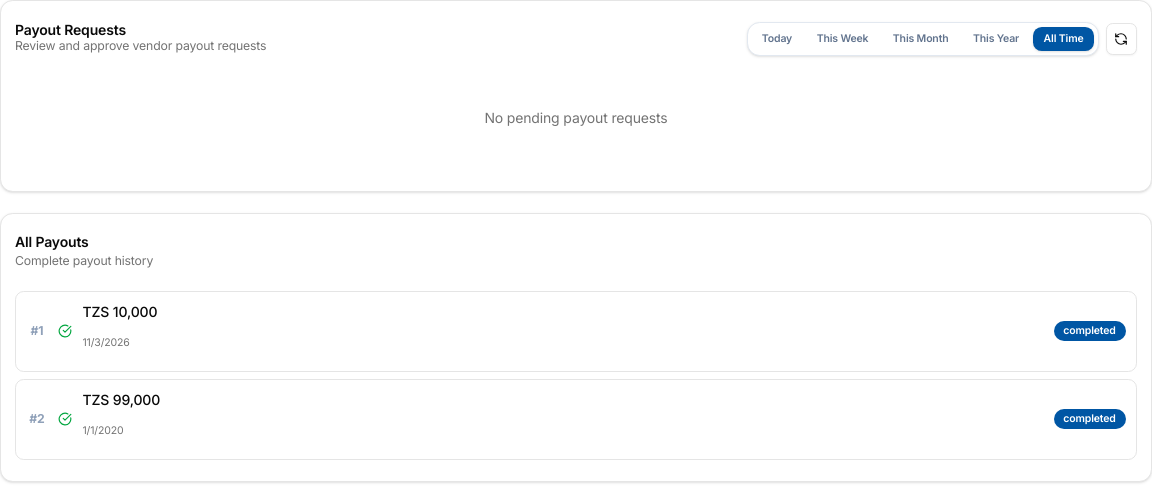
PayoutApprovalTab › filters both sections by the selected date range
Expected: the text "TZS 10,000" is shown, [82,302,157,322]
Expected: the text "TZS 99,000" is shown, [82,390,160,410]
Click the button "Today" at (777, 39), box [751,26,803,51]
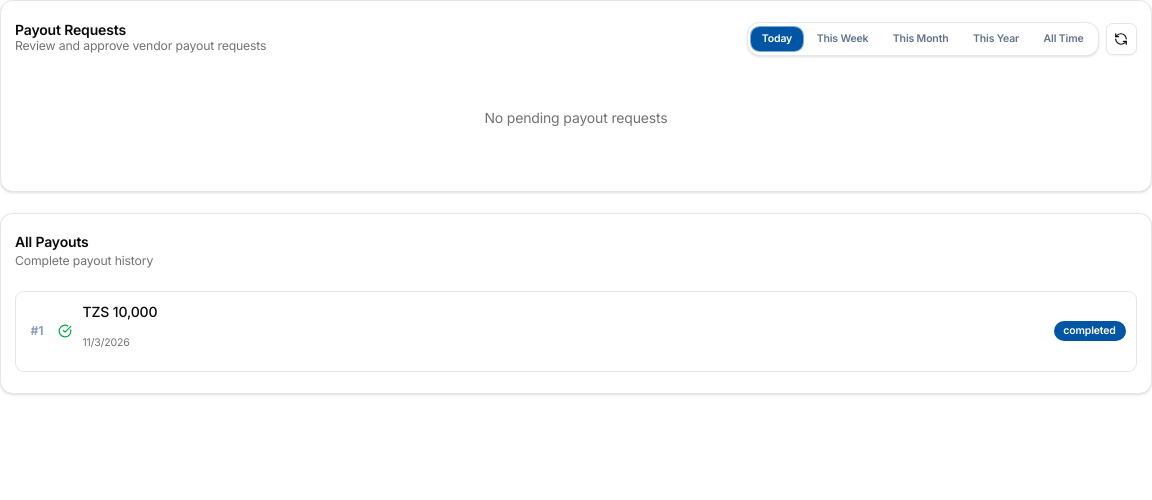
Expected: the text "TZS 10,000" is shown, [82,302,157,322]
Expected: the text "TZS 99,000" is gone
